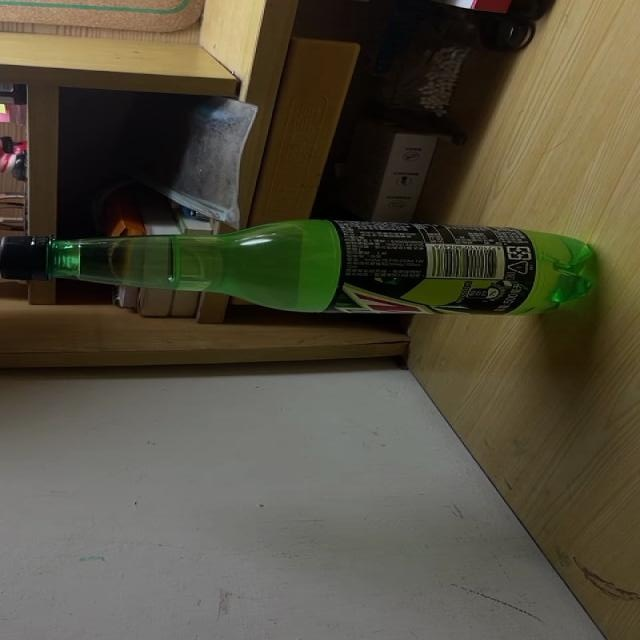Mountain-Dew: (0, 219, 596, 318)
